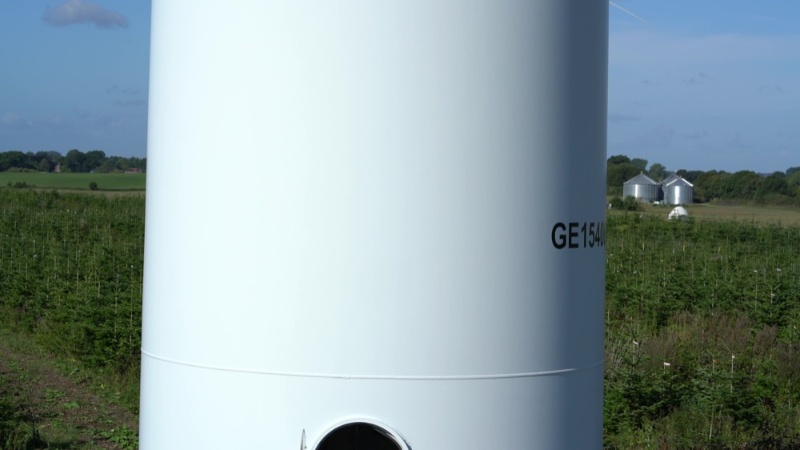weldseam: (140, 342, 605, 384)
